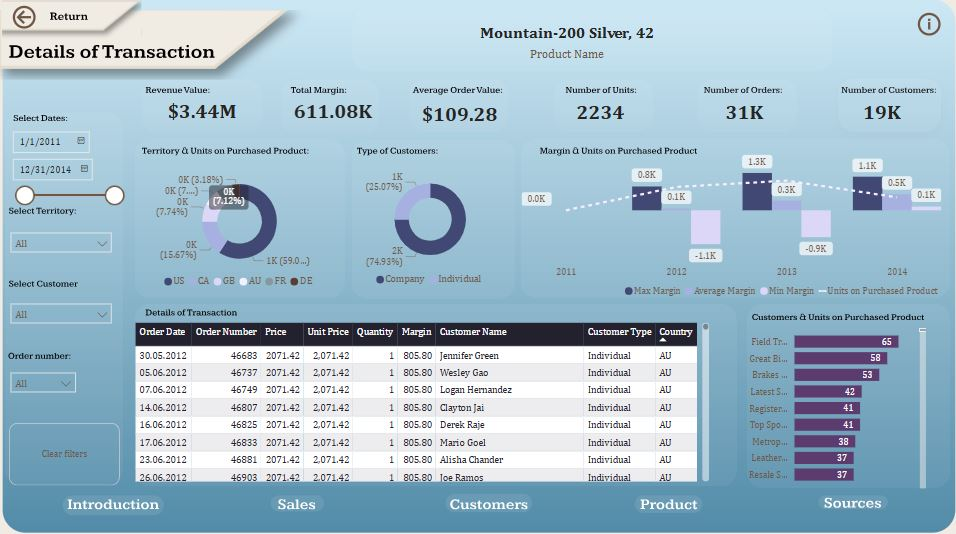

This screenshot's page, from the dashboard's own definition file:
{"tool":"powerbi","page":{"name":" Product Detail of Transaction","canvas":[1280,720],"ordinal":6},"visuals":[{"type":"actionButton","box":[1066.7,654.4,124.4,36.7],"z":0},{"type":"actionButton","box":[90,655.6,135.6,36.7],"z":1000},{"type":"actionButton","box":[363.3,654.4,75.6,36.7],"z":2000},{"type":"actionButton","box":[591.1,652.2,123.3,35.6],"z":3000},{"type":"actionButton","box":[835.6,647.8,98.9,44.4],"z":4000},{"type":"tableEx","fields":{"Values":["SalesOrderHeader.OrderDate","SalesOrderHeader.SalesOrderID","Sum(SalesOrderDetail.LineTotal)","Sum(SalesOrderDetail.UnitPrice)","Sum(SalesOrderDetail.OrderQty)","Sum(SalesOrderDetail.Margin)","Customer.CustomerName","Customer.CustomerType","Territory.CountryRegionCode"]},"box":[182,428,766,219],"z":5000},{"type":"slicer","fields":{"Values":["calendar.Date"]},"box":[13.1,171.3,167.7,114.2],"z":6000},{"type":"slicer","fields":{"Values":["Customer.CustomerName"]},"box":[13.3,397.8,153.3,45.6],"z":7000},{"type":"slicer","fields":{"Values":["SalesOrderDetail.SalesOrderID"]},"box":[13.3,487.8,105.6,51.1],"z":8000},{"type":"card","fields":{"Values":["_Measure.AverageOrder"]},"box":[545.6,130,138.9,54.4],"z":9000},{"type":"card","fields":{"Values":["_Measure.NumberOfOrders"]},"box":[934.4,126.7,108.9,56.7],"z":10000},{"type":"card","fields":{"Values":["_Measure.Customers with Orders"]},"box":[1118.9,130,102.2,50],"z":11000},{"type":"card","fields":{"Values":["_Measure.AllSalesProductSum"]},"box":[192.8,126.9,163.9,56],"z":12000},{"type":"card","fields":{"Values":["_Measure.NumberOfUnits"]},"box":[738.9,128.9,122.2,53.3],"z":13000},{"type":"actionButton","box":[21.2,565.1,145.9,82.2],"z":14000},{"type":"actionButton","box":[1212.2,20,41.1,40],"z":15000},{"type":"slicer","fields":{"Values":["Territory.CountryRegionCode"]},"box":[13.3,304.4,153.3,44.4],"z":16000},{"type":"actionButton","box":[21.1,10,100,40],"z":17000},{"type":"clusteredBarChart","fields":{"Category":["Customer.CustomerName"],"Y":["Sum(SalesOrderDetail.OrderQty)"]},"box":[978,428,255,228],"z":18000},{"type":"donutChart","fields":{"Category":["Territory.CountryRegionCode"],"Y":["Sum(SalesOrderDetail.OrderQty)"]},"box":[193,231,262,167],"z":19000},{"type":"card","fields":{"Values":["Min(Product.ProductName)"]},"box":[501.1,20,507.8,81.1],"z":20000},{"type":"card","fields":{"Values":["_Measure.AllMargin"]},"box":[365.7,118.9,162.9,69.9],"z":21000},{"type":"donutChart","fields":{"Category":["Customer.CustomerType"],"Y":["Sum(SalesOrderDetail.OrderQty)"]},"box":[476,228,198,167],"z":22000},{"type":"lineClusteredColumnComboChart","fields":{"Category":["calendar.Year"],"Y":["_Measure.MaxMargin","_Measure.AverageMargin","_Measure.MinMargin"],"Y2":["_Measure.NumberOfUnits"]},"box":[691,198,562,212],"z":23000}]}

Visuals, with their boxes in screenshot pixels (x1, y1, x2, y2), scaled from the page's 1280x720 canvas onto the 956x534 screenshot:
actionButton: {"left": 797, "top": 485, "right": 890, "bottom": 513}
actionButton: {"left": 67, "top": 486, "right": 168, "bottom": 513}
actionButton: {"left": 271, "top": 485, "right": 328, "bottom": 513}
actionButton: {"left": 441, "top": 484, "right": 534, "bottom": 510}
actionButton: {"left": 624, "top": 480, "right": 698, "bottom": 513}
tableEx - SalesOrderHeader.OrderDate x SalesOrderHeader.SalesOrderID: {"left": 136, "top": 317, "right": 708, "bottom": 480}
slicer - calendar.Date: {"left": 10, "top": 127, "right": 135, "bottom": 212}
slicer - Customer.CustomerName: {"left": 10, "top": 295, "right": 124, "bottom": 329}
slicer - SalesOrderDetail.SalesOrderID: {"left": 10, "top": 362, "right": 89, "bottom": 400}
card - _Measure.AverageOrder: {"left": 407, "top": 96, "right": 511, "bottom": 137}
card - _Measure.NumberOfOrders: {"left": 698, "top": 94, "right": 779, "bottom": 136}
card - _Measure.Customers with Orders: {"left": 836, "top": 96, "right": 912, "bottom": 134}
card - _Measure.AllSalesProductSum: {"left": 144, "top": 94, "right": 266, "bottom": 136}
card - _Measure.NumberOfUnits: {"left": 552, "top": 96, "right": 643, "bottom": 135}
actionButton: {"left": 16, "top": 419, "right": 125, "bottom": 480}
actionButton: {"left": 905, "top": 15, "right": 936, "bottom": 44}
slicer - Territory.CountryRegionCode: {"left": 10, "top": 226, "right": 124, "bottom": 259}
actionButton: {"left": 16, "top": 7, "right": 90, "bottom": 37}
clusteredBarChart - Customer.CustomerName x Sum(SalesOrderDetail.OrderQty): {"left": 730, "top": 317, "right": 921, "bottom": 487}
donutChart - Territory.CountryRegionCode x Sum(SalesOrderDetail.OrderQty): {"left": 144, "top": 171, "right": 340, "bottom": 295}
card - Min(Product.ProductName): {"left": 374, "top": 15, "right": 754, "bottom": 75}
card - _Measure.AllMargin: {"left": 273, "top": 88, "right": 395, "bottom": 140}
donutChart - Customer.CustomerType x Sum(SalesOrderDetail.OrderQty): {"left": 356, "top": 169, "right": 503, "bottom": 293}
lineClusteredColumnComboChart - calendar.Year x _Measure.MaxMargin: {"left": 516, "top": 147, "right": 936, "bottom": 304}
